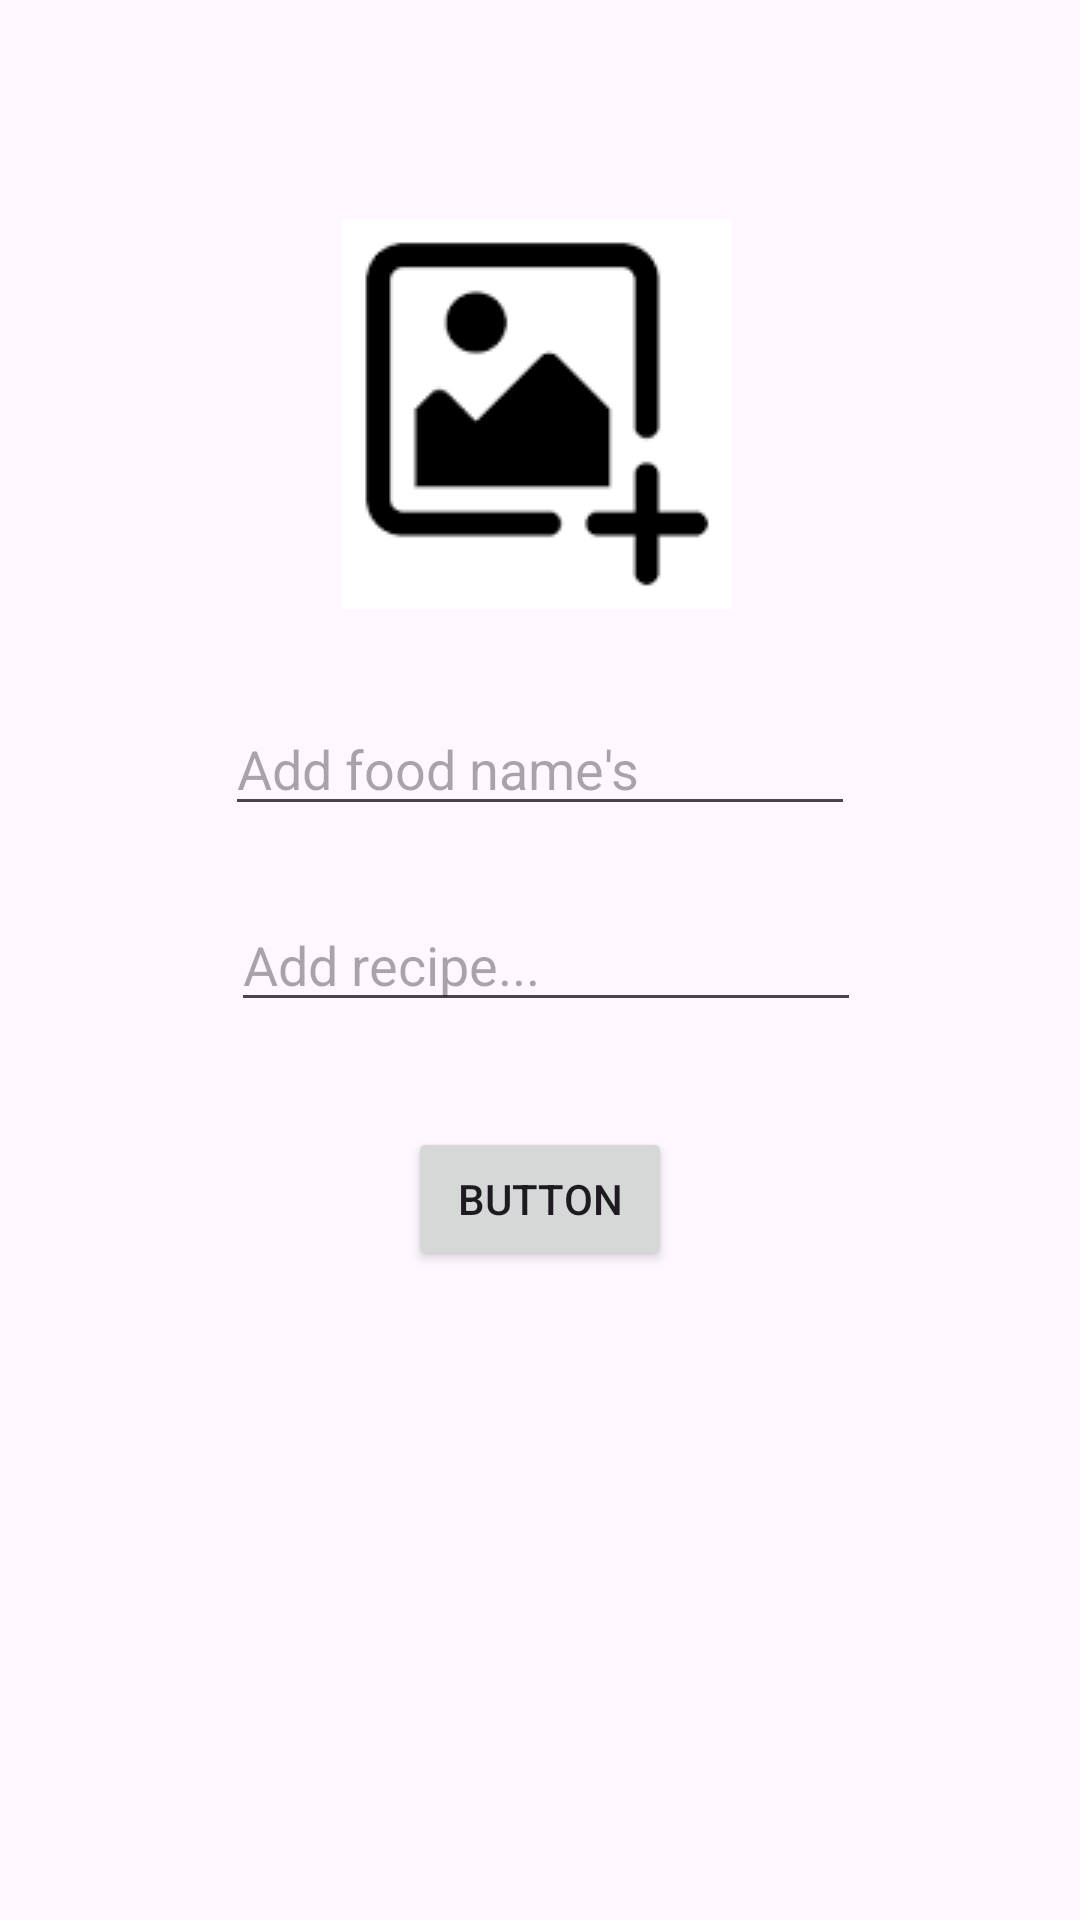

Where to tap for icons on this 1080px x 1920px app screen, as point (x, y):
images: point (537, 414)
